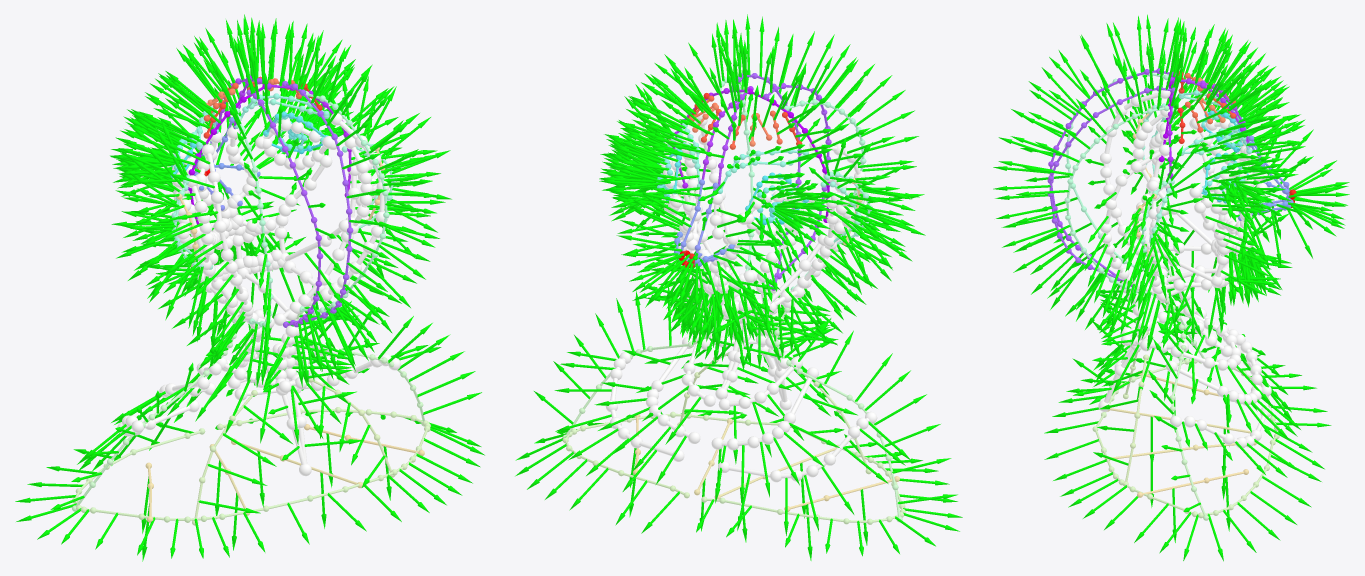
Rendered from author1_bust.gltf.
3 renders of one model, left to right at view 1: azimuth 30°, elevation 25°; view 2: azimuth 150°, elevation 25°; view 3: azimuth 270°, elevation 25°, orthographic. The views are drawn at different scales.
Size of the model in its own units: 0.7941 by 0.8598 by 0.6029.
